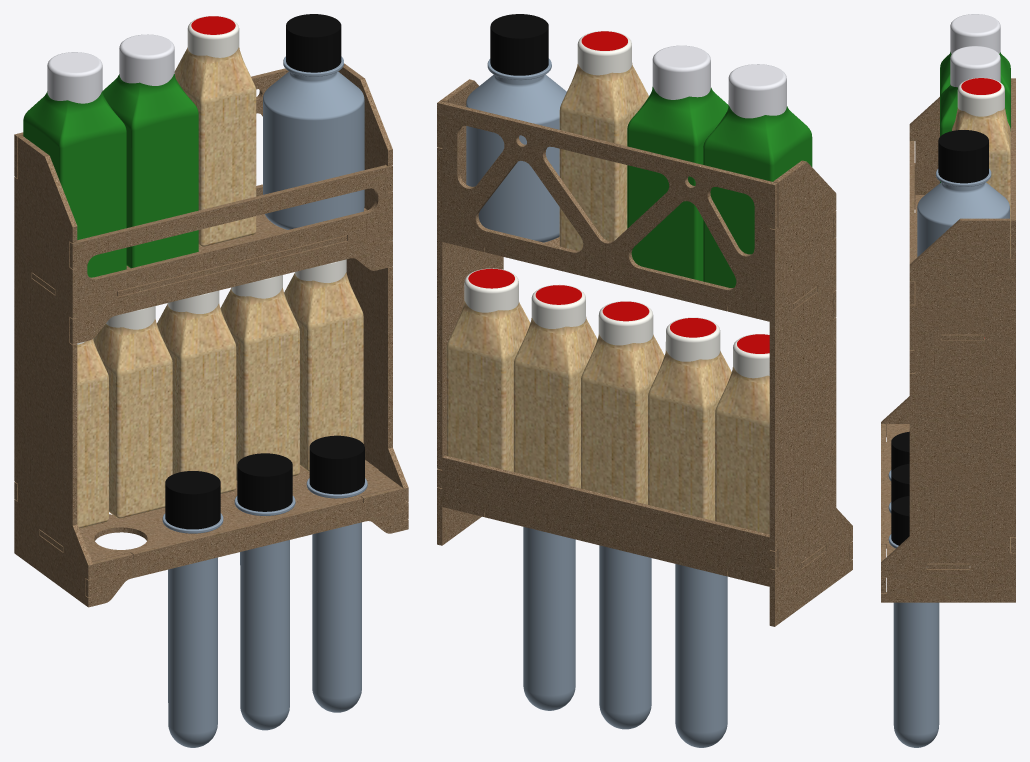
3 renders of one model, left to right at view 1: azimuth 30°, elevation 25°; view 2: azimuth 150°, elevation 25°; view 3: azimuth 270°, elevation 25°, orthographic. The views are drawn at different scales.
Parts seen in each view (by area): view 1: Solid1 (×12), Solid3 (×7); view 2: Solid1 (×12), Solid3 (×6); view 3: Solid3 (×7), Solid1 (×7).
Boxes of the visible parts, bbox=[...] form: Solid1 (×12): bbox=[23, 14, 367, 747]; Solid3 (×7): bbox=[14, 63, 408, 607]; Solid1 (×12): bbox=[446, 14, 812, 747]; Solid3 (×6): bbox=[437, 79, 852, 626]; Solid3 (×7): bbox=[881, 78, 1015, 602]; Solid1 (×7): bbox=[888, 14, 1010, 747].
Bounding box in the file's own units: 0.2 × 0.406 × 0.08.
Materials: 13 (7 with a texture image).
